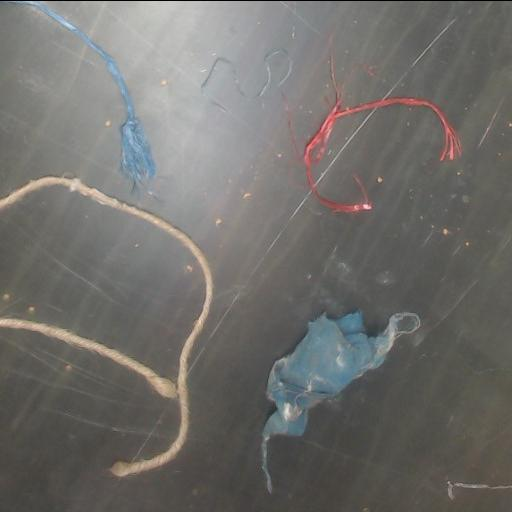conveyor belt: (0, 1, 511, 512), (0, 188, 202, 373), (262, 311, 420, 490)
jute: (0, 177, 213, 476)
thread: (0, 1, 154, 190), (305, 98, 460, 170), (201, 49, 292, 98), (320, 198, 370, 210)
